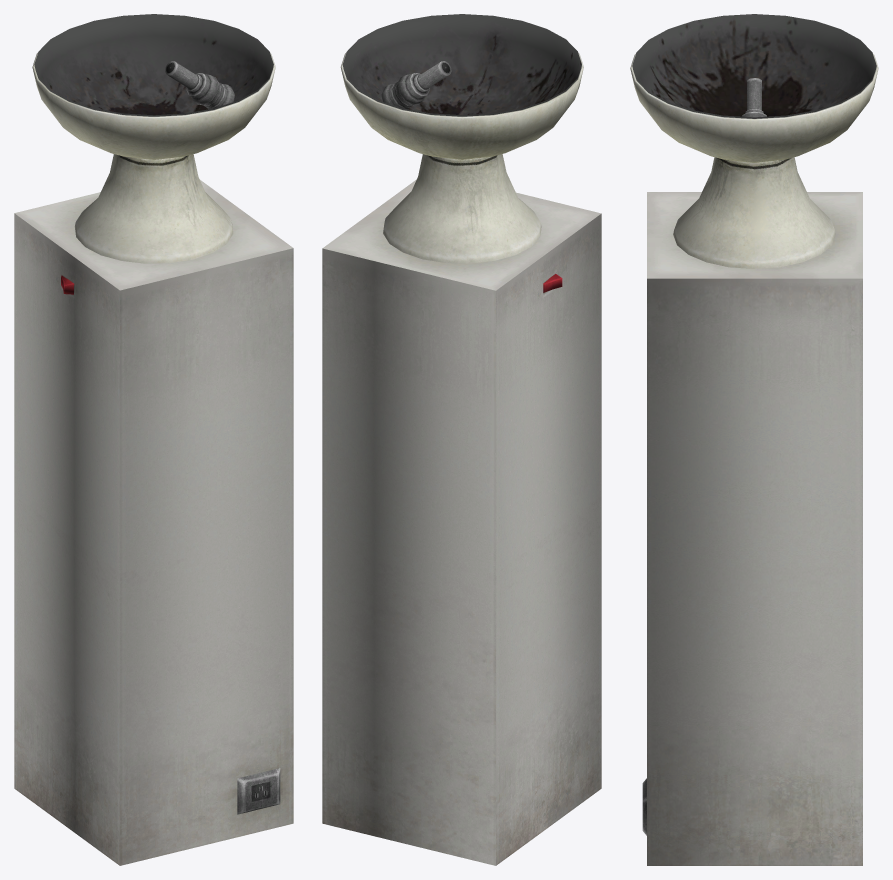
Rendered from water_fountain_oil_stain.dae.
3 views of the same model, side by side, from view 1: azimuth 30°, elevation 25°; view 2: azimuth 150°, elevation 25°; view 3: azimuth 270°, elevation 25° (orthographic). The views are drawn at different scales.
Visible parts, largest first — view 1: water_fountain, water_fountain1; view 2: water_fountain, water_fountain1; view 3: water_fountain, water_fountain1.
Part boxes in pixels (x1,y1,x2,y2): water_fountain: (14, 52, 293, 865); water_fountain1: (34, 14, 273, 116); water_fountain: (322, 52, 601, 865); water_fountain1: (342, 14, 581, 116); water_fountain: (630, 53, 878, 865); water_fountain1: (632, 14, 876, 118).
Bounding box in the file's own units: 32.65 × 110 × 32.65.
